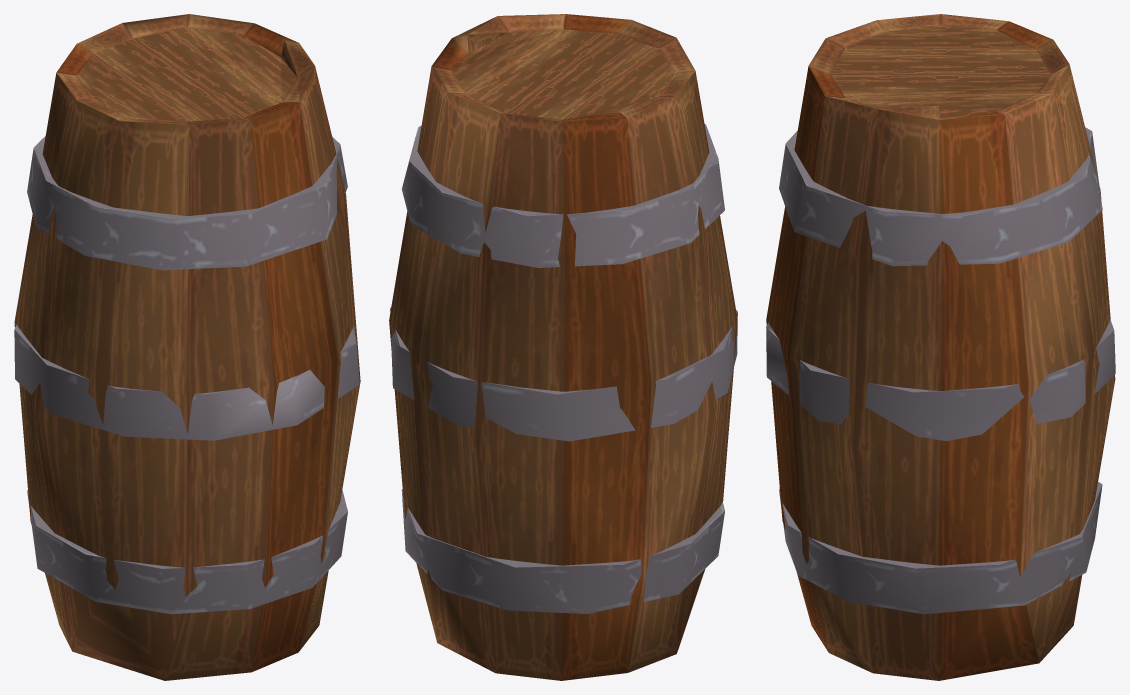
The model's file is barrel-tall.lod1.gltf.
3 views of the same model, side by side, from view 1: azimuth 30°, elevation 25°; view 2: azimuth 150°, elevation 25°; view 3: azimuth 270°, elevation 25° (orthographic).
Parts seen in each view (by area): view 1: Barrel; view 2: Barrel; view 3: Barrel.
Part boxes in pixels (box(x1,y1,x2,y2)): Barrel: box(14, 14, 360, 680); Barrel: box(389, 14, 737, 680); Barrel: box(766, 14, 1115, 680).
Bounding box in the file's own units: 0.7052 × 1.25 × 0.6985.
Materials: 2 (2 with a texture image).
